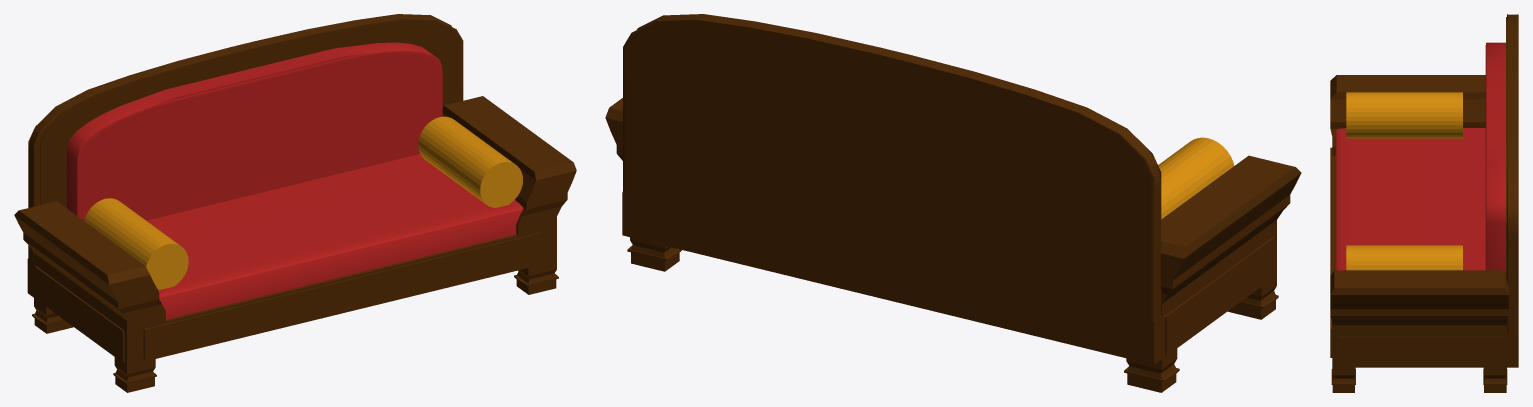
Rendered from M_CanapeRouge.fbx.
3 views of the same model, side by side, from view 1: azimuth 30°, elevation 25°; view 2: azimuth 150°, elevation 25°; view 3: azimuth 270°, elevation 25° (orthographic). The views are drawn at different scales.
Visible parts, largest first — view 1: Cylinder; view 2: Cylinder; view 3: Cylinder.
Part boxes in pixels (x1,y1,x2,y2): Cylinder: [14, 14, 576, 392]; Cylinder: [605, 14, 1301, 392]; Cylinder: [1330, 14, 1518, 392].
Bounding box in the file's own units: 870 × 399 × 323.
